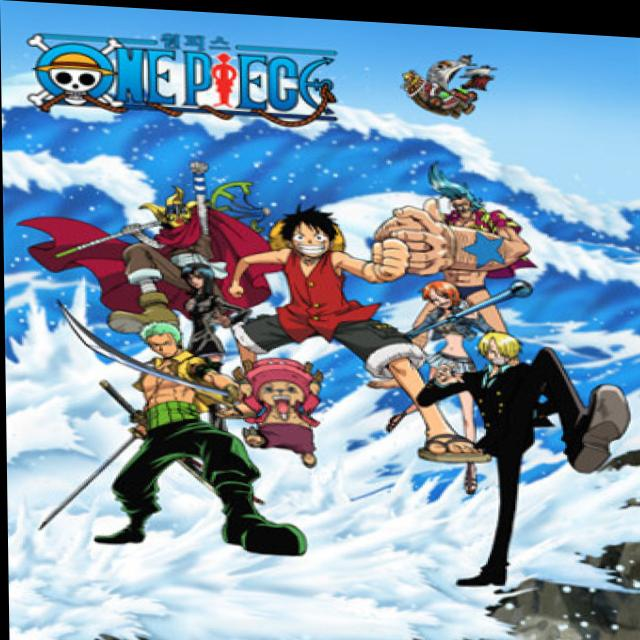Chyopa: (222, 342, 336, 458)
Franky: (425, 150, 488, 221)
Luffy: (266, 198, 343, 265)
Nami: (419, 271, 469, 309)
Sangdi: (468, 325, 531, 365)
Usopp: (133, 181, 219, 236)
Zoro: (131, 312, 191, 365)
